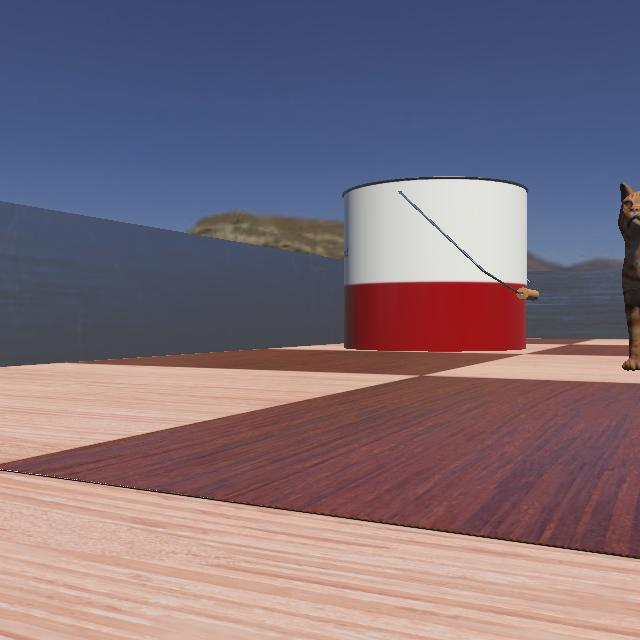cat: (561, 169, 639, 375), (561, 169, 639, 375)
paint-bucket: (338, 168, 590, 354)
